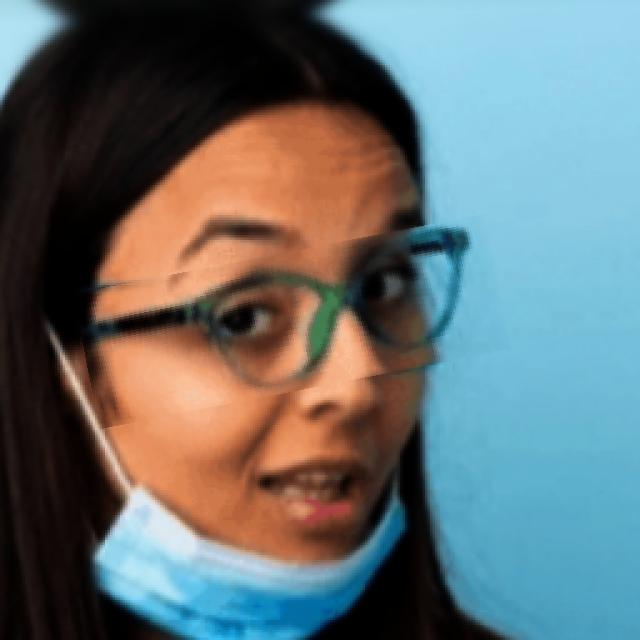glasses: (78, 234, 506, 410)
